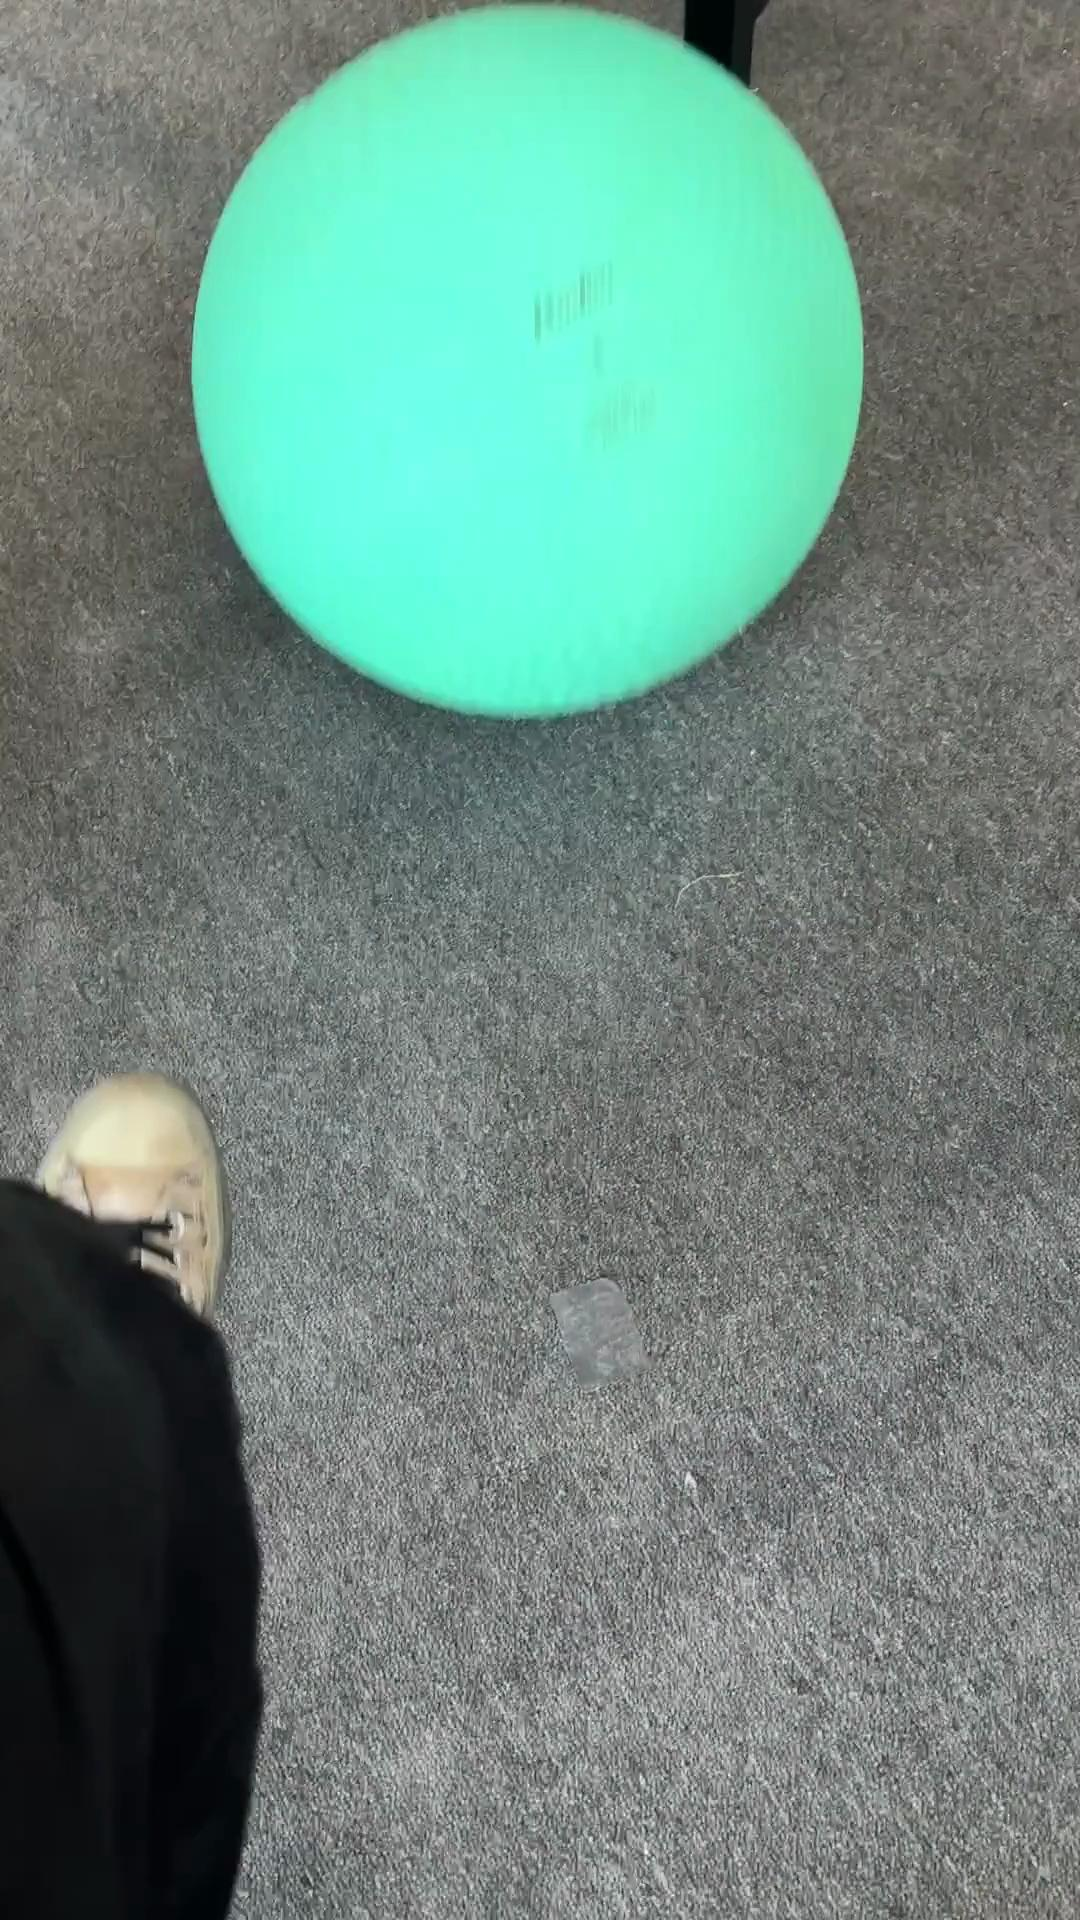ALGAE: (187, 1, 866, 721)
